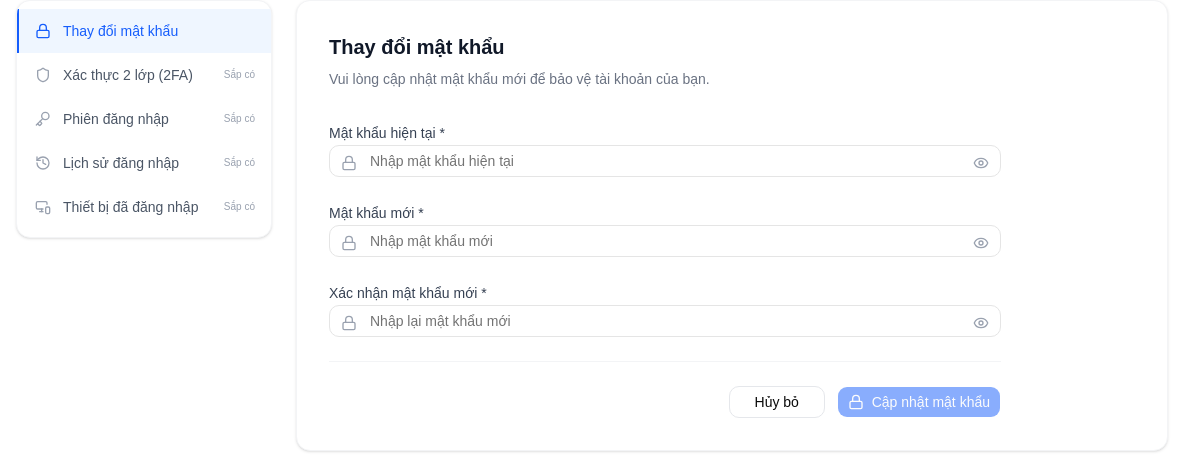
it: AccountSecurityPage › shows login history as unavailable rather than faking it
The width and height of the screenshot is (1185, 469).
Step 1. Click the button "Lịch sử đăng nhập Sắp có" → point(144, 163), box x1=17 y1=141 x2=271 y2=185
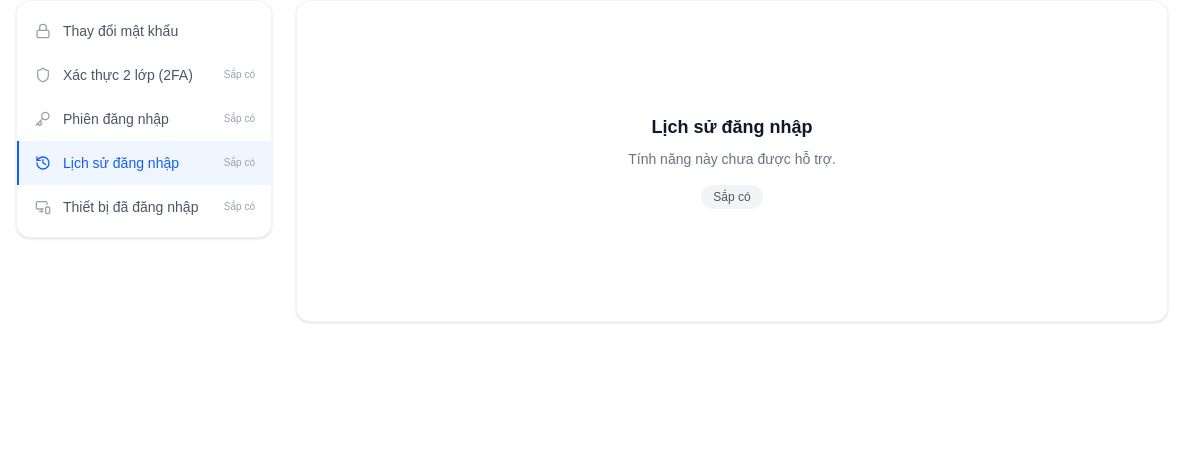
Expected: the text "Tính năng này chưa được hỗ trợ." is shown, x1=628 y1=149 x2=836 y2=169
